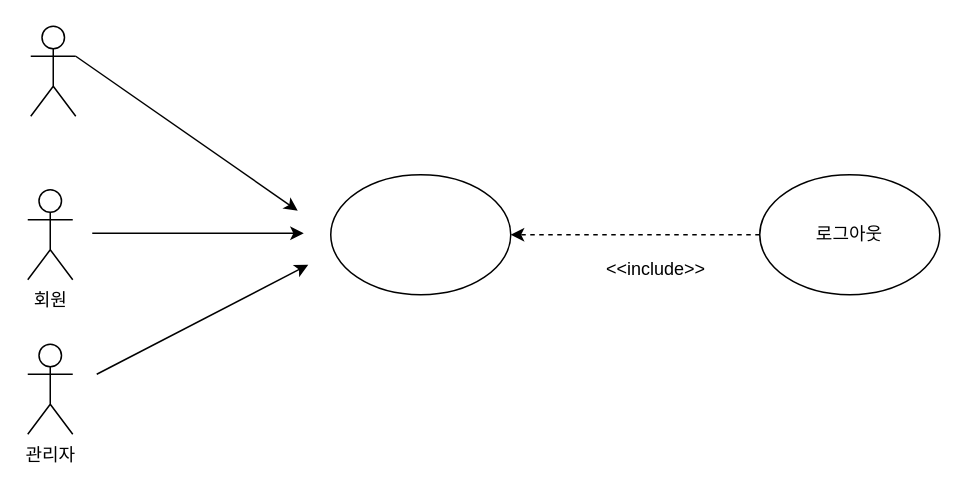
This 966x492 diagram has some shape labels left out. Here are the shapes that lost their labels. From the top down, the centre of each, then its label:
At (x=52, y=70): "비회원".
At (x=420, y=234): "로그인".
